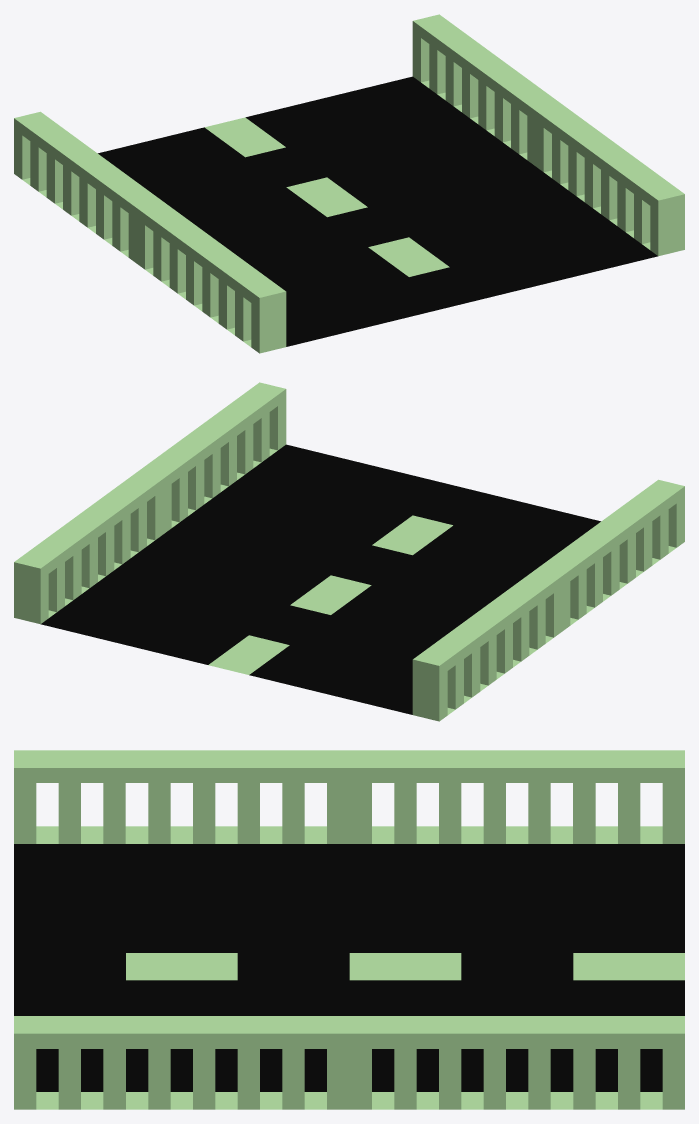
The model's file is Sci-fi_raceTrackStraight_Beta1.fbx.
3 renders of one model, top to bottom at view 1: azimuth 30°, elevation 25°; view 2: azimuth 150°, elevation 25°; view 3: azimuth 270°, elevation 25°, orthographic. The views are drawn at different scales.
Visible parts, largest first — view 1: Plane, LeftWall, RightWall; view 2: Plane, LeftWall, RightWall; view 3: Plane, LeftWall, RightWall.
Part boxes in pixels (x1,y1,x2,y2): Plane: (98,76,657,346); LeftWall: (412,14,684,256); RightWall: (14,111,286,353); Plane: (41,444,600,714); LeftWall: (14,382,286,624); RightWall: (412,479,684,721); Plane: (14,844,684,1091); LeftWall: (14,1016,684,1109); RightWall: (14,750,684,843).
Bounding box in the file's own units: 1000 × 125 × 1000.
